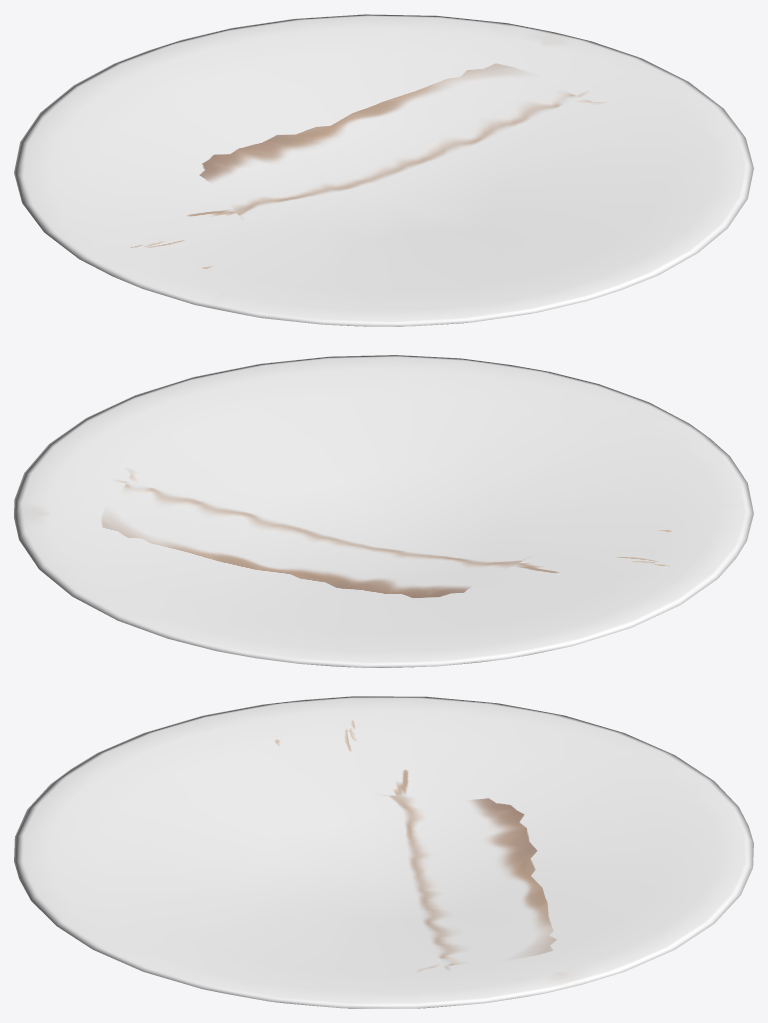
File: Plato.fbx
The picture shows the model from 3 angles, top to bottom: view 1: azimuth 30°, elevation 25°; view 2: azimuth 150°, elevation 25°; view 3: azimuth 270°, elevation 25°; orthographic projection.
Parts seen in each view (by area): view 1: Circle.001; view 2: Circle.001; view 3: Circle.001.
Part boxes in pixels (<box>): Circle.001: <box>14,14,753,326</box>; Circle.001: <box>14,355,753,667</box>; Circle.001: <box>14,696,753,1008</box>.
Bounding box in the file's own units: 403 × 21.05 × 403.
